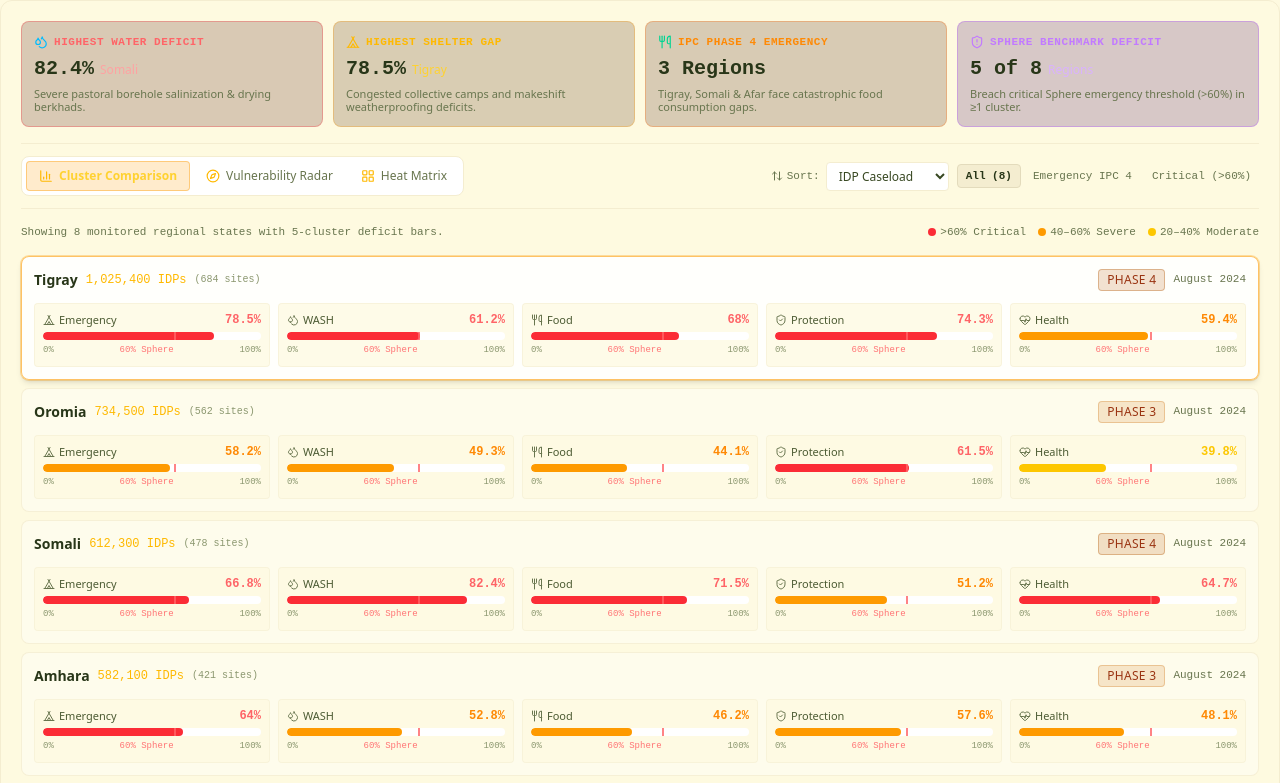
it: Sectoral Humanitarian Needs: Components & Logic › renders NeedsVisualizationGraph with quick shot snapshot cards, cluster bars, and radar views
This screenshot has width=1280, height=783.
Expected: the text "Highest Water Deficit" is shown, [54,34,204,50]
Expected: the text "Highest Shelter Gap" is shown, [366,34,502,50]
# Switch to Radar view
Click the button "Vulnerability Radar".
click(269, 176)  # box [194,162,345,190]
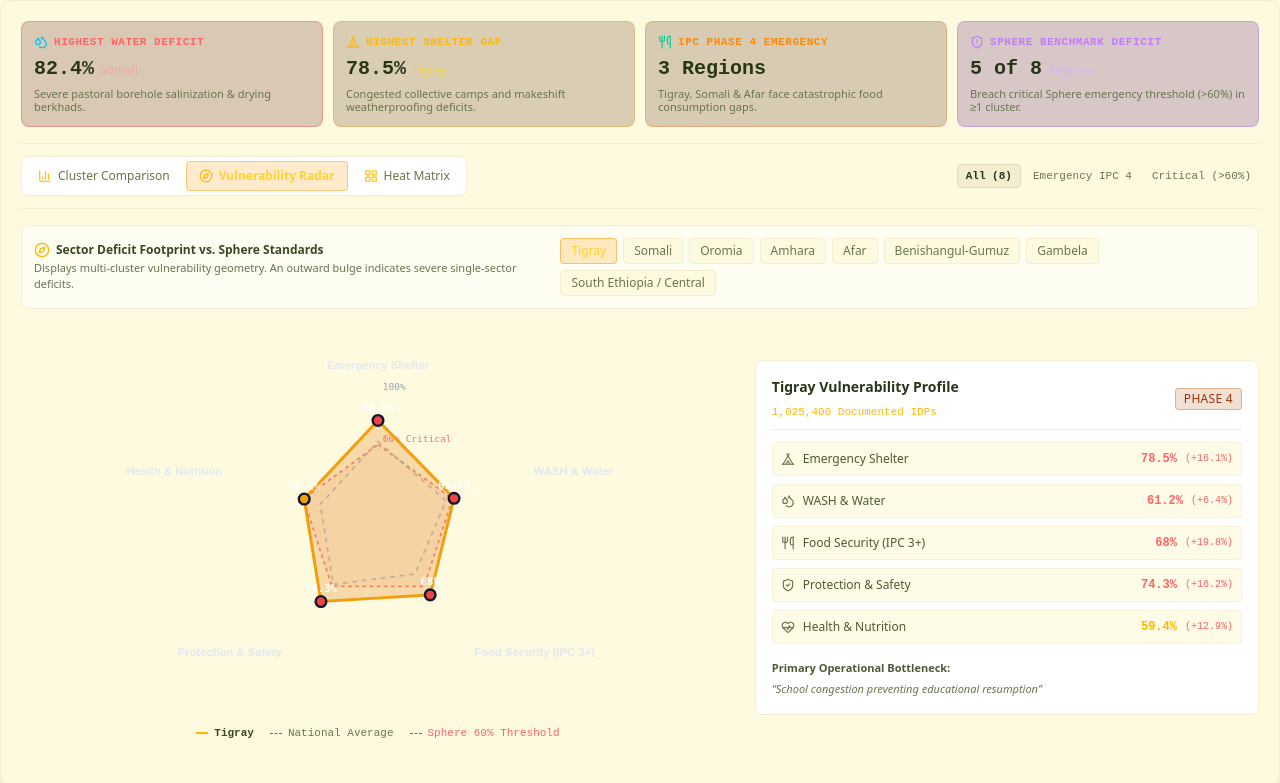
Expected: the text "Sector Deficit Footprint vs. Sphere Standards" is shown, [56,242,324,258]
Expected: the text "National Average" is shown, [288,725,394,742]
# Switch to Heat Matrix view
Click the button "Heat Matrix".
click(407, 176)  # box [352,162,462,190]
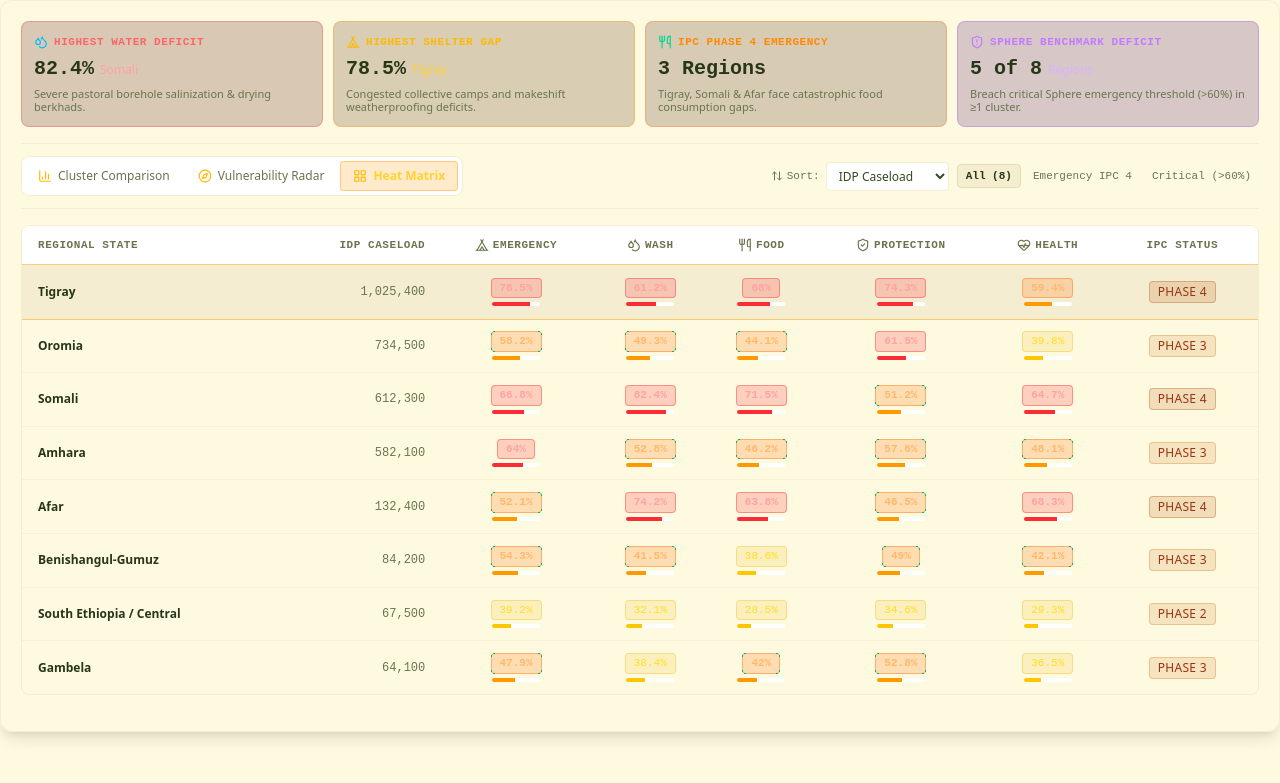
Expected: the column heading "IPC Status" is shown, [1111,226,1258,265]
